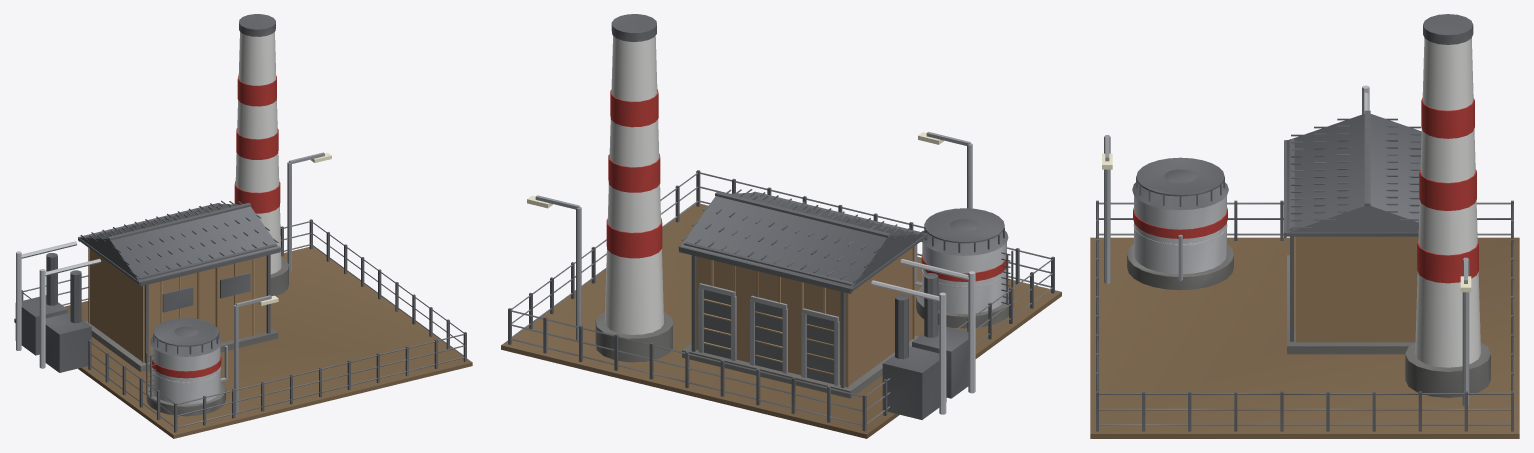
File: Power_P1.fbx
3 renders of one model, left to right at view 1: azimuth 30°, elevation 25°; view 2: azimuth 150°, elevation 25°; view 3: azimuth 270°, elevation 25°, orthographic. The views are drawn at different scales.
Visible parts, largest first — view 1: Power.Yard, Power.Hall, Power.Stack0, Power.Tank0, Power.Switchyard, Power.Fence, Power.Lamp1, Power.Lamp0; view 2: Power.Hall, Power.Yard, Power.Stack0, Power.Switchyard, Power.Tank0, Power.Fence, Power.Lamp1, Power.Lamp0; view 3: Power.Yard, Power.Hall, Power.Stack0, Power.Tank0, Power.Fence, Power.Lamp1, Power.Lamp0.
Part boxes in pixels (bbox=[...]): Power.Yard: bbox=[14, 246, 472, 438]; Power.Hall: bbox=[78, 200, 280, 371]; Power.Stack0: bbox=[234, 14, 288, 296]; Power.Tank0: bbox=[146, 318, 227, 416]; Power.Switchyard: bbox=[15, 241, 100, 372]; Power.Fence: bbox=[21, 219, 466, 432]; Power.Lamp1: bbox=[287, 152, 331, 271]; Power.Lamp0: bbox=[234, 295, 278, 414]; Power.Hall: bbox=[678, 189, 926, 398]; Power.Yard: bbox=[501, 203, 1061, 438]; Power.Stack0: bbox=[595, 14, 672, 362]; Power.Switchyard: bbox=[871, 259, 975, 419]; Power.Tank0: bbox=[914, 208, 1013, 328]; Power.Fence: bbox=[508, 170, 1054, 431]; Power.Lamp1: bbox=[527, 195, 581, 340]; Power.Lamp0: bbox=[918, 132, 972, 208]; Power.Yard: bbox=[1090, 237, 1519, 438]; Power.Hall: bbox=[1284, 110, 1421, 354]; Power.Stack0: bbox=[1405, 14, 1490, 397]; Power.Tank0: bbox=[1127, 157, 1233, 290]; Power.Fence: bbox=[1096, 200, 1513, 431]; Power.Lamp1: bbox=[1460, 257, 1471, 406]; Power.Lamp0: bbox=[1102, 135, 1112, 283].
Bounding box in the file's own units: 2870 × 2221 × 2400.
